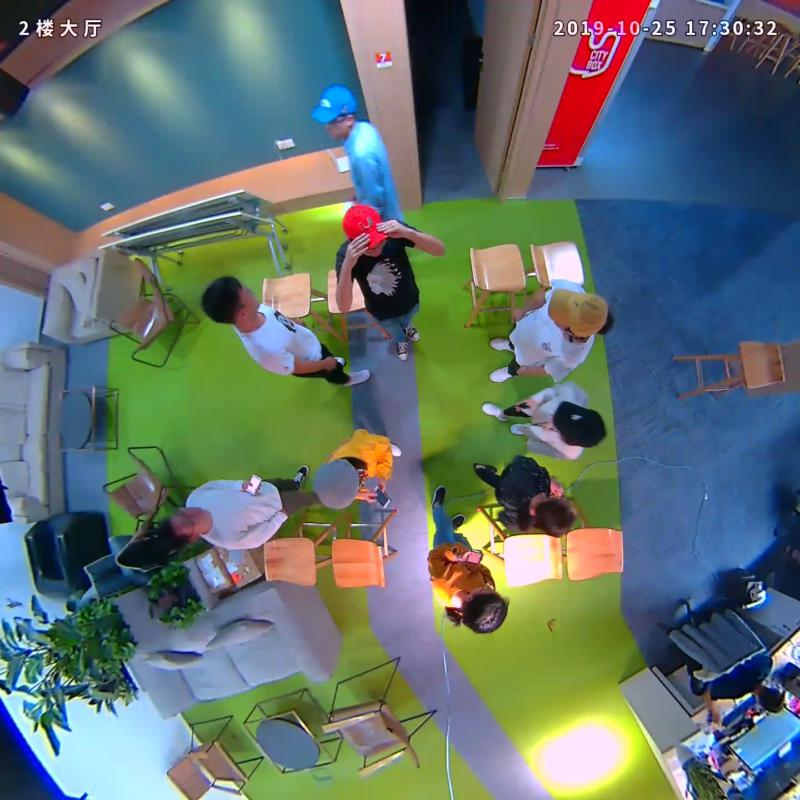head: (547, 288, 608, 340), (199, 275, 260, 325), (311, 83, 357, 141), (553, 401, 606, 448), (342, 203, 387, 257), (314, 458, 360, 510), (461, 584, 508, 634), (158, 507, 207, 548), (530, 496, 576, 539)
